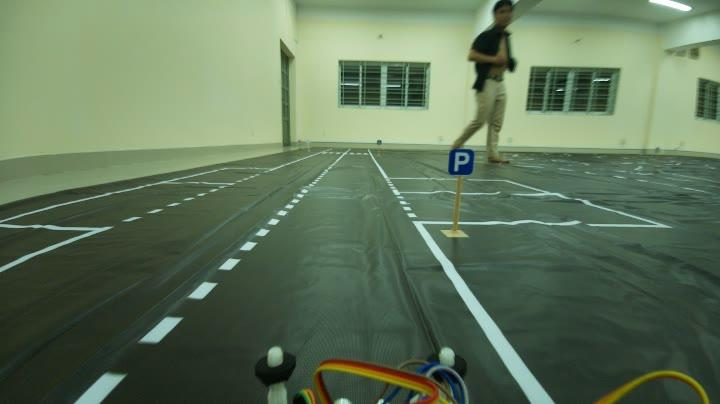parking: (448, 144, 479, 182)
